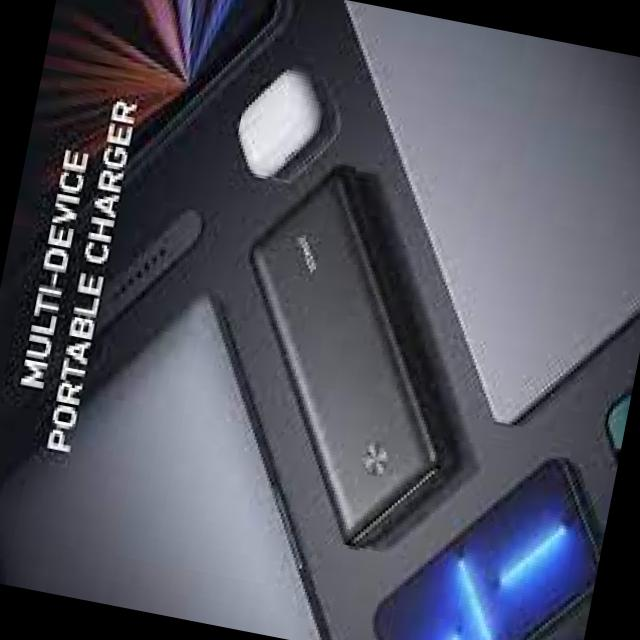portable-charger: (194, 138, 521, 571)
